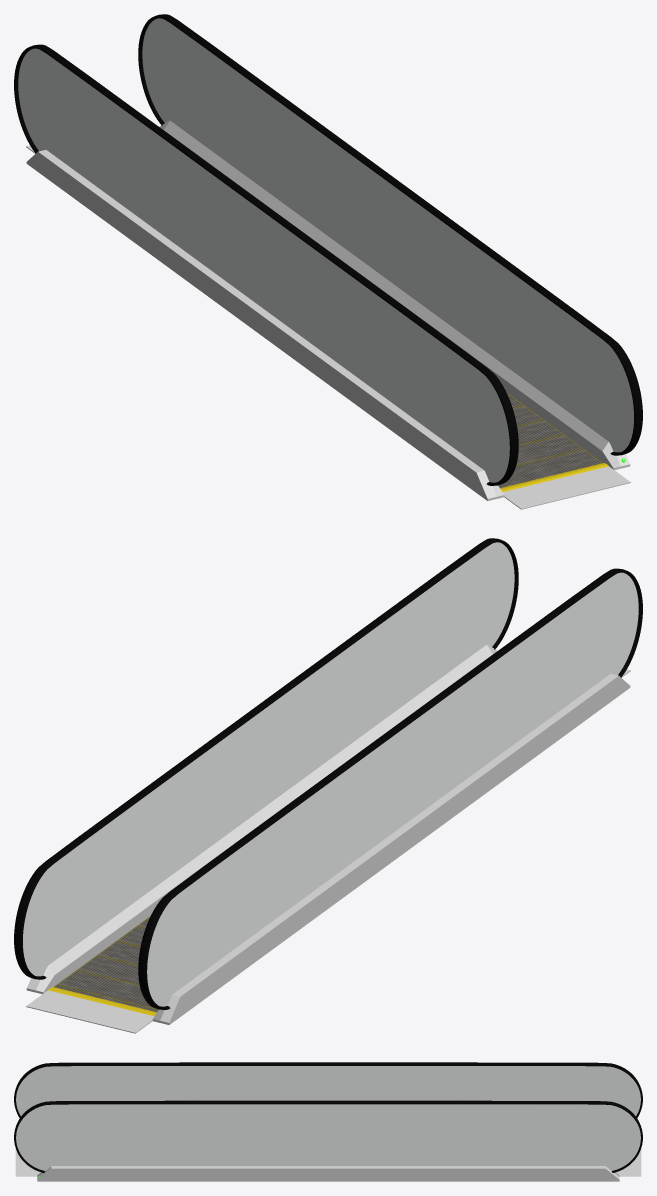
The model's file is RealisticMovingWalkwayNoMoire.fbx.
3 views of the same model, one above another, from view 1: azimuth 30°, elevation 25°; view 2: azimuth 150°, elevation 25°; view 3: azimuth 270°, elevation 25° (orthographic). The views are drawn at different scales.
Parts seen in each view (by area): view 1: Glass Panel, SideMetal, Handrail, Walkway, Threshold Surface; view 2: Glass Panel, SideMetal, Handrail, Walkway, Threshold Surface; view 3: Glass Panel, SideMetal, Handrail, Threshold Surface.
Part boxes in pixels (x1=…): Glass Panel: x1=18, y1=18, x2=633, y2=482; SideMetal: x1=26, y1=120, x2=630, y2=500; Handrail: x1=14, y1=14, x2=642, y2=485; Walkway: x1=498, y1=392, x2=602, y2=488; Threshold Surface: x1=26, y1=145, x2=630, y2=509; Glass Panel: x1=23, y1=542, x2=638, y2=1006; SideMetal: x1=26, y1=644, x2=630, y2=1024; Handrail: x1=14, y1=538, x2=642, y2=1009; Walkway: x1=54, y1=916, x2=158, y2=1012; Threshold Surface: x1=26, y1=669, x2=630, y2=1033; Glass Panel: x1=16, y1=1066, x2=640, y2=1170; SideMetal: x1=37, y1=1166, x2=619, y2=1181; Handrail: x1=14, y1=1062, x2=642, y2=1172; Threshold Surface: x1=15, y1=1148, x2=641, y2=1176.
Size of the model in its own units: 260 by 213 by 1575.
8 materials, 1 textured.
